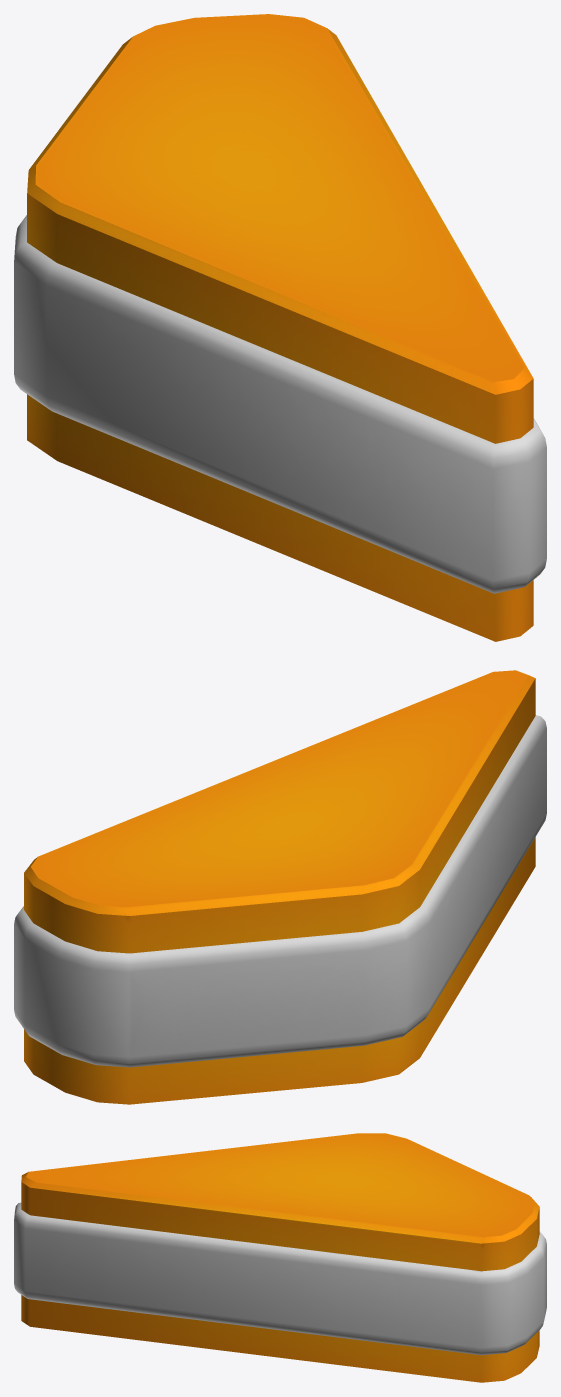
File: block_basic_bumper_mirrored.fbx
The picture shows the model from 3 angles, top to bottom: view 1: azimuth 30°, elevation 25°; view 2: azimuth 150°, elevation 25°; view 3: azimuth 270°, elevation 25°; orthographic projection. The views are drawn at different scales.
Parts seen in each view (by area): view 1: block_basic_bumper_mirrored, rubber_band; view 2: block_basic_bumper_mirrored, rubber_band; view 3: block_basic_bumper_mirrored, rubber_band.
Boxes of the visible parts, x1,y1,x2,y2 form: block_basic_bumper_mirrored: (27,14,533,641); rubber_band: (14,215,546,593); block_basic_bumper_mirrored: (24,670,535,1104); rubber_band: (14,715,546,1067); block_basic_bumper_mirrored: (21,1133,539,1382); rubber_band: (14,1202,546,1355).
Bounding box in the file's own units: 208 × 122 × 410.
Materials: 1 (1 with a texture image).
